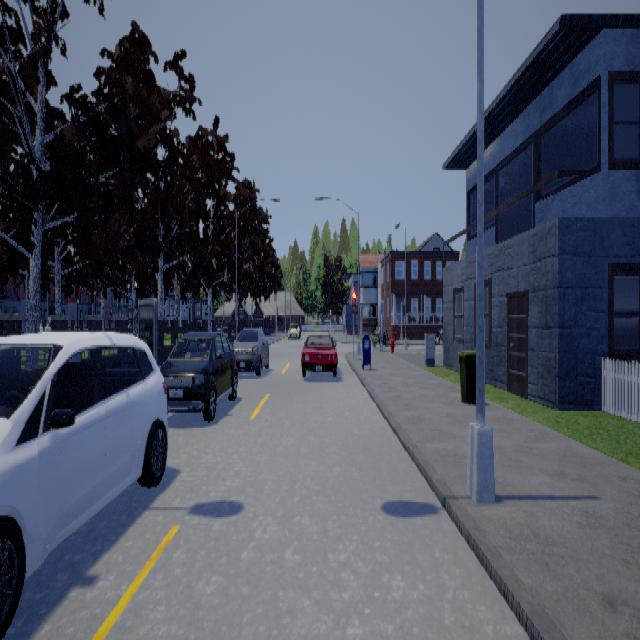red_light: (351, 286, 355, 315)
vehicle: (0, 318, 166, 638), (159, 328, 239, 423), (230, 322, 270, 377), (300, 334, 337, 376)
